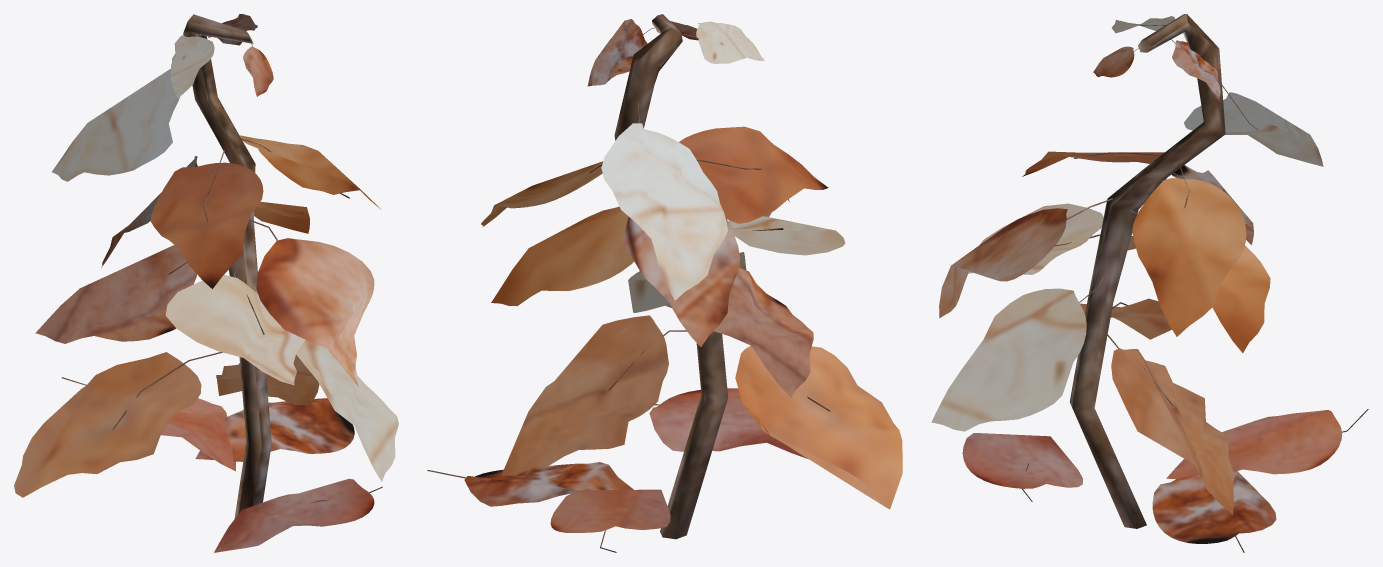
The model's file is dryplant.fbx.
The picture shows the model from 3 angles, left to right: view 1: azimuth 30°, elevation 25°; view 2: azimuth 150°, elevation 25°; view 3: azimuth 270°, elevation 25°; orthographic projection. The views are drawn at different scales.
Visible parts, largest first — view 1: Circle, Circle.002, Circle.006, Circle.003, Stiel, Circle.018, Circle.010, Circle.011, Circle.004, Circle.013, Circle.007, Circle.009 (+6 smaller); view 2: Circle, Circle.001, Circle.010, Stiel, Circle.006, Circle.005, Circle.003, Circle.008, Circle.013, Circle.009, Circle.011, Circle.018 (+4 smaller); view 3: Stiel, Circle.004, Circle.007, Circle.001, Circle.009, Circle.013, Circle.002, Circle.011, Circle.010, Circle.005, Circle.018, Circle (+4 smaller).
Boxes of the visible parts, x1,y1,x2,y2 form: Circle: (14,352,201,497); Circle.002: (256,238,374,386); Circle.006: (150,162,263,288); Circle.003: (35,245,196,343); Stiel: (183,14,271,518); Circle.018: (165,275,305,385); Circle.010: (52,68,179,181); Circle.011: (214,478,374,552); Circle.004: (296,340,398,481); Circle.013: (195,398,354,461); Circle.007: (239,135,381,209); Circle.009: (161,398,235,471); Circle: (735,345,902,509); Circle.001: (501,315,668,475); Circle.010: (601,123,727,300); Stiel: (614,14,728,539); Circle.006: (679,126,828,223); Circle.005: (491,206,634,306); Circle.003: (713,267,813,397); Circle.008: (623,217,739,346); Circle.013: (464,462,633,506); Circle.009: (550,489,670,532); Circle.011: (649,388,807,458); Circle.018: (728,216,845,255); Stiel: (1069,14,1225,528); Circle.004: (931,288,1086,431); Circle.007: (1132,178,1246,336); Circle.001: (1111,348,1234,514); Circle.009: (1166,410,1341,479); Circle.013: (1152,469,1276,543); Circle.002: (939,208,1067,318); Circle.011: (962,433,1082,488); Circle.010: (1184,92,1323,166); Circle.005: (1212,245,1270,352); Circle.018: (968,203,1103,274); Circle: (1080,298,1171,339).
Bounding box in the file's own units: 0.3389 × 0.3301 × 0.4141.
